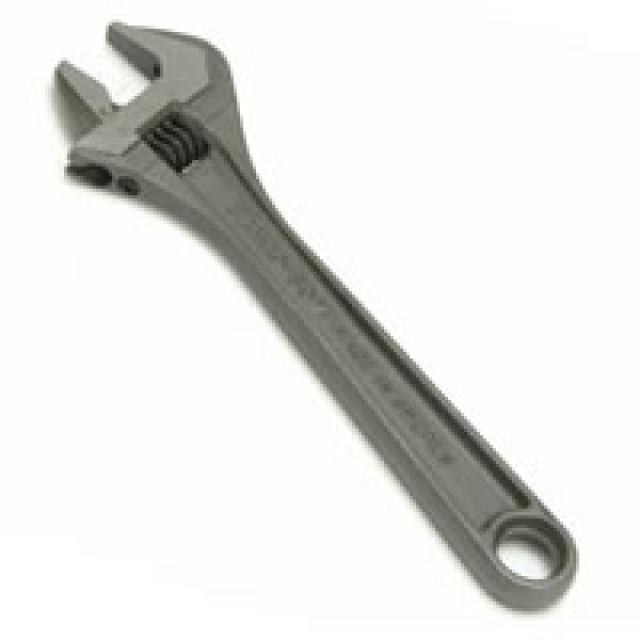wrench: (32, 8, 624, 623)
